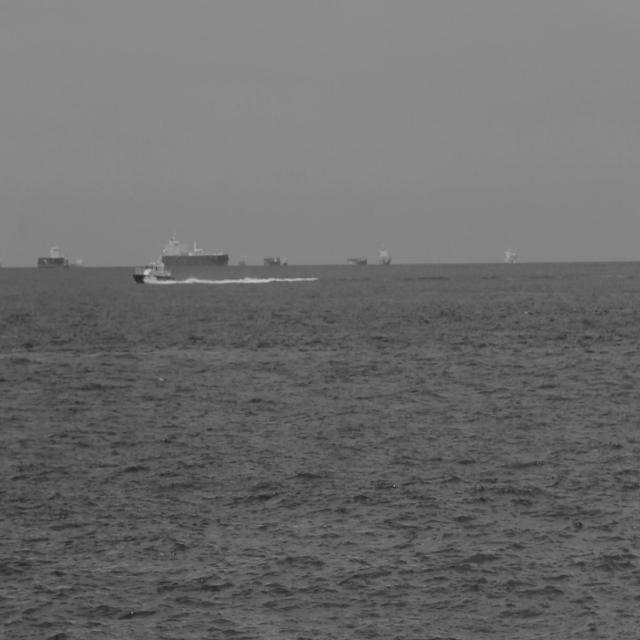ship: (160, 231, 230, 268), (131, 253, 175, 285), (36, 241, 70, 267), (502, 240, 518, 266), (377, 241, 392, 266), (346, 254, 368, 267), (263, 254, 281, 266), (282, 254, 288, 266)
